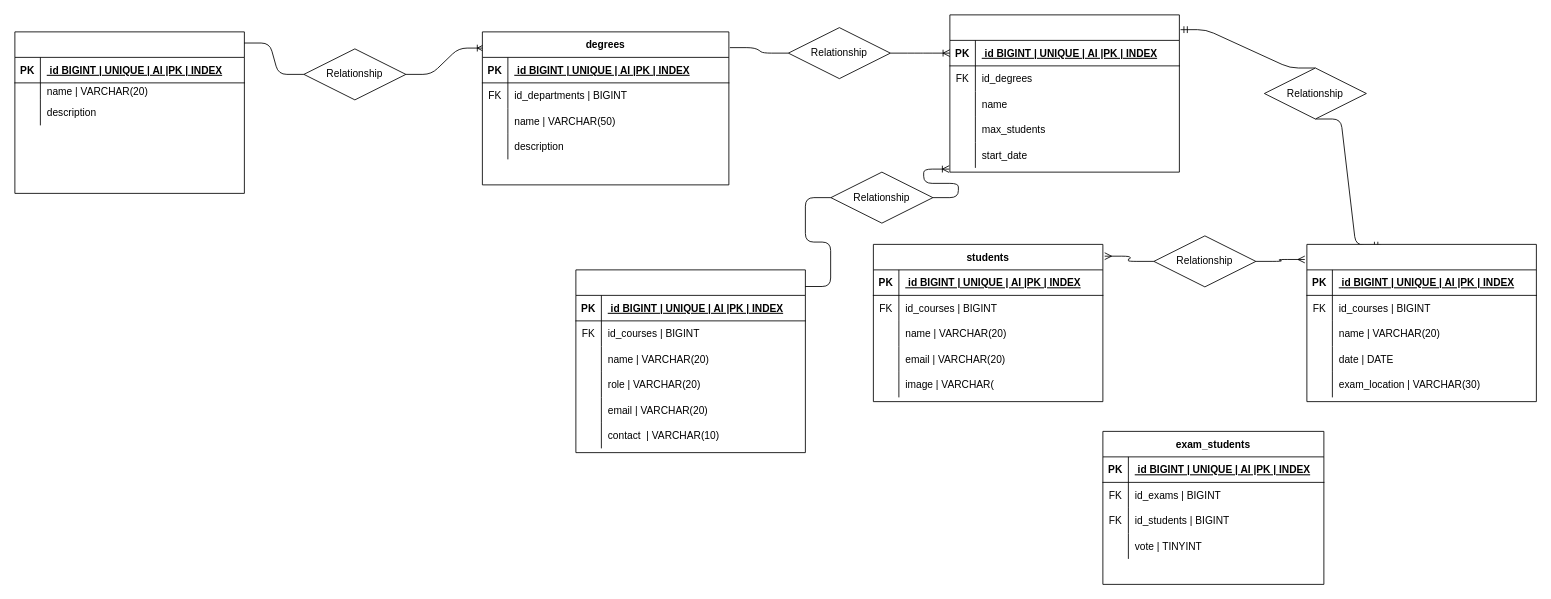
Image size: 1551x599. Some labels were removed from this diagram. The box of each missing label's shape, as (x1, y1, x2, y2) in pixels:
courses: (949, 14, 1179, 172)
departments: (14, 31, 244, 193)
exams: (1306, 244, 1536, 402)
teachers: (575, 269, 805, 453)
